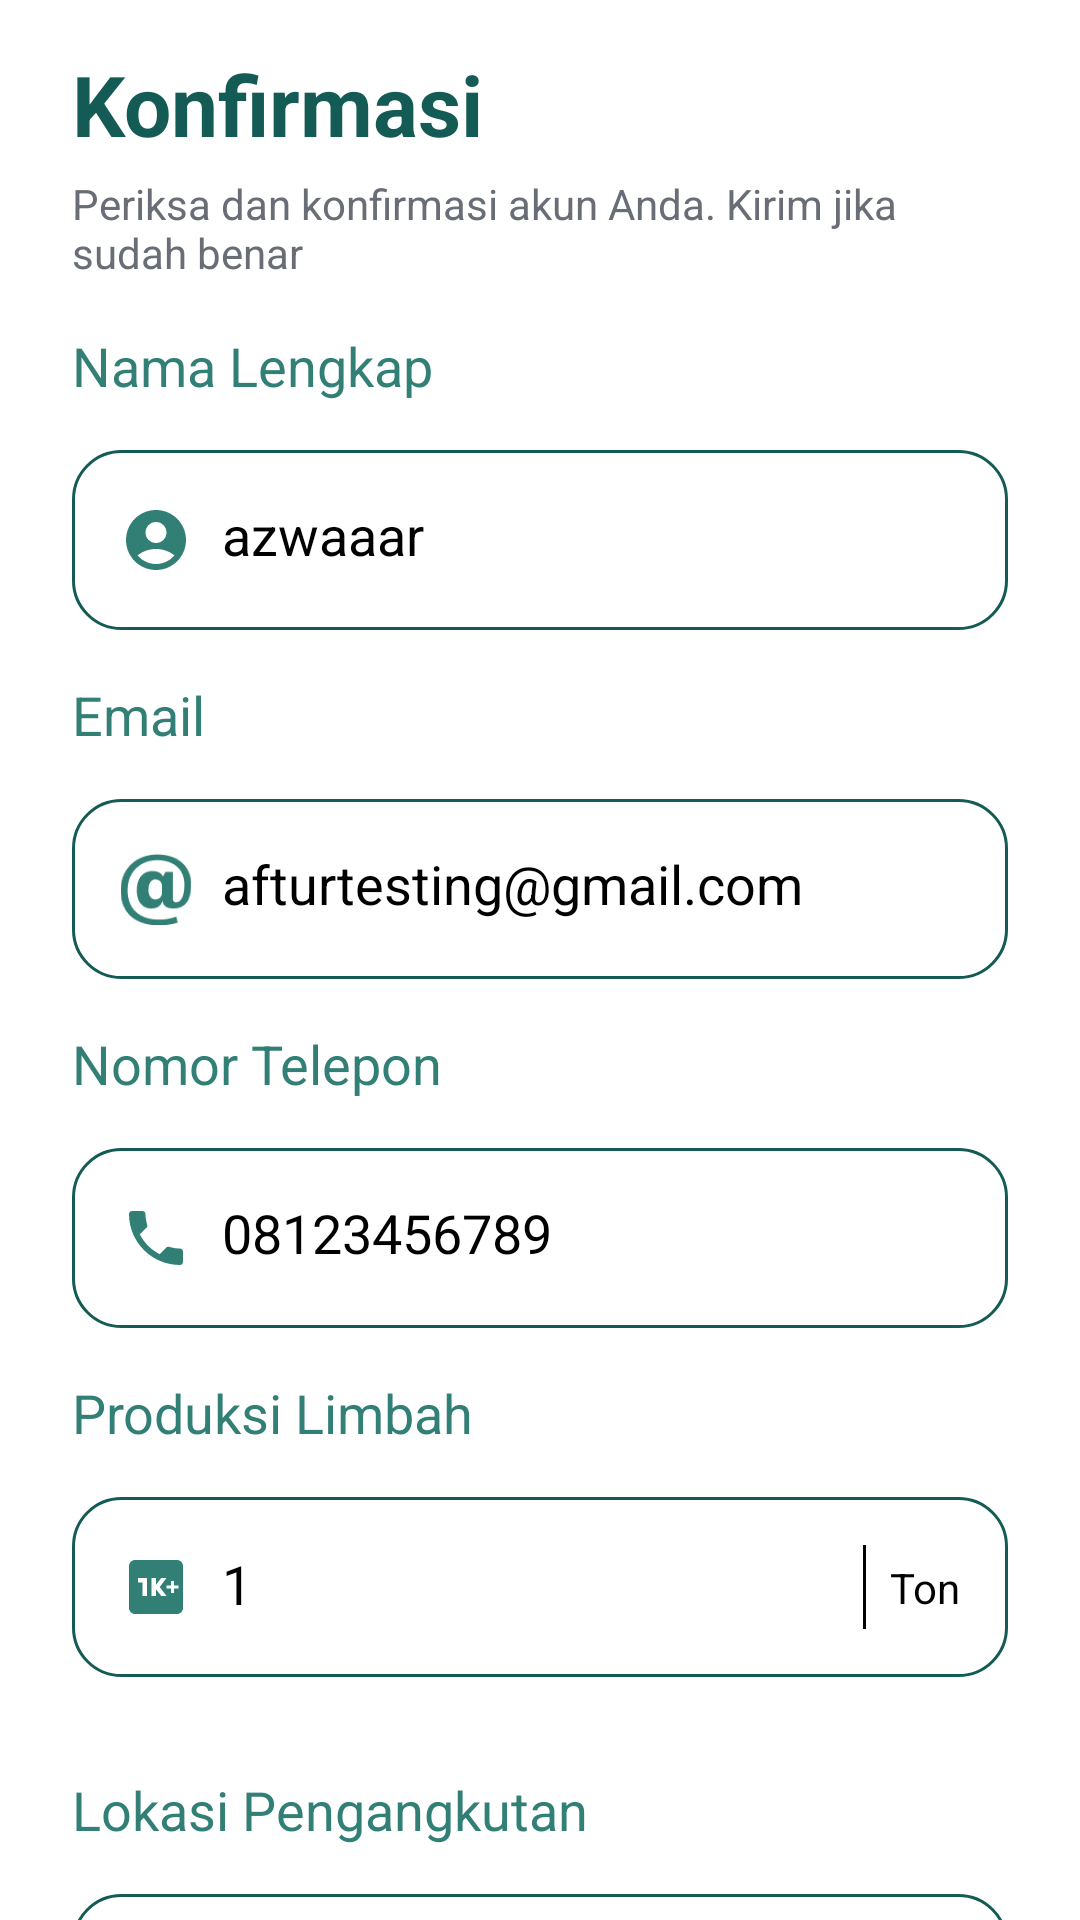

Screen size 1080px x 1920px. Icon name, then its box in pixels as (x1, y1, x2, y2):
account circle: (126, 510, 186, 570)
local phone: (129, 1211, 183, 1265)
